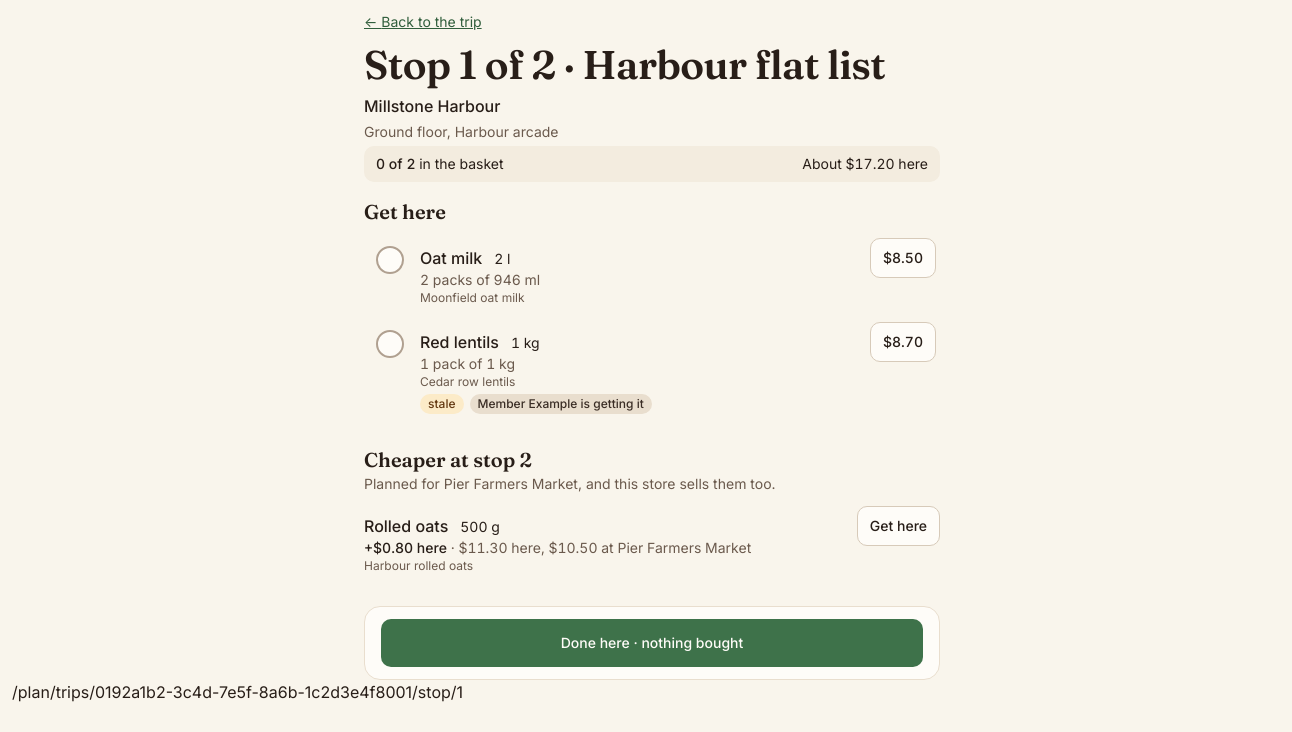
Test case: the stop screen (UI-4.8, UI-8.17) › ticks an item into the basket, moves it to the foot, and back again
What coordinates should you click on to do the following:
click the checkbox named "Check Oat milk"
I would click on:
 (390, 260)
Its box is [368,238,412,282].
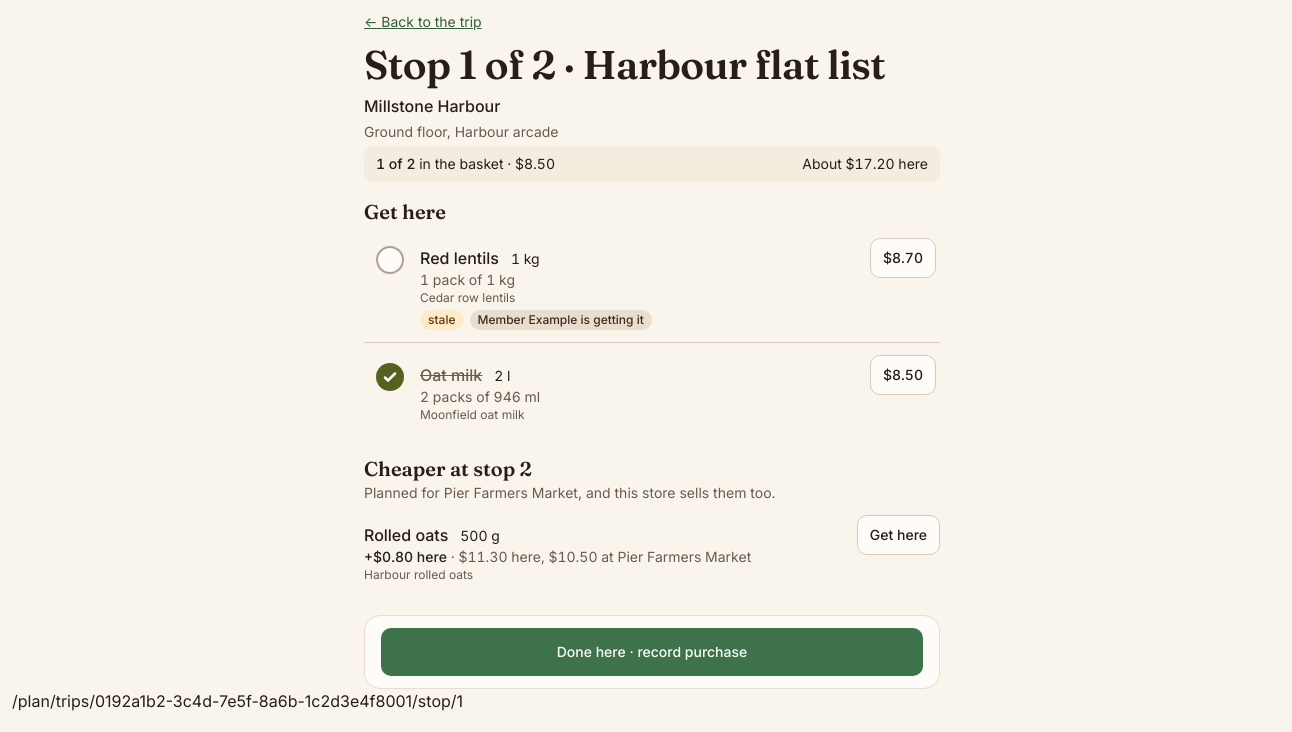
Expected: the text "Oat milk" is shown, [420,363,482,387]
Result: the element with test id "stop-progress" shows "1 of 2 in the basket · $8.50" at [364,146,940,182]
Result: the button "Done here · record purchase" is shown at [381,628,923,676]
What coordinates should you click on to do the following:
click the checkbox named "Uncheck Oat milk"
I would click on:
 (390, 377)
Its box is [368,355,412,399].
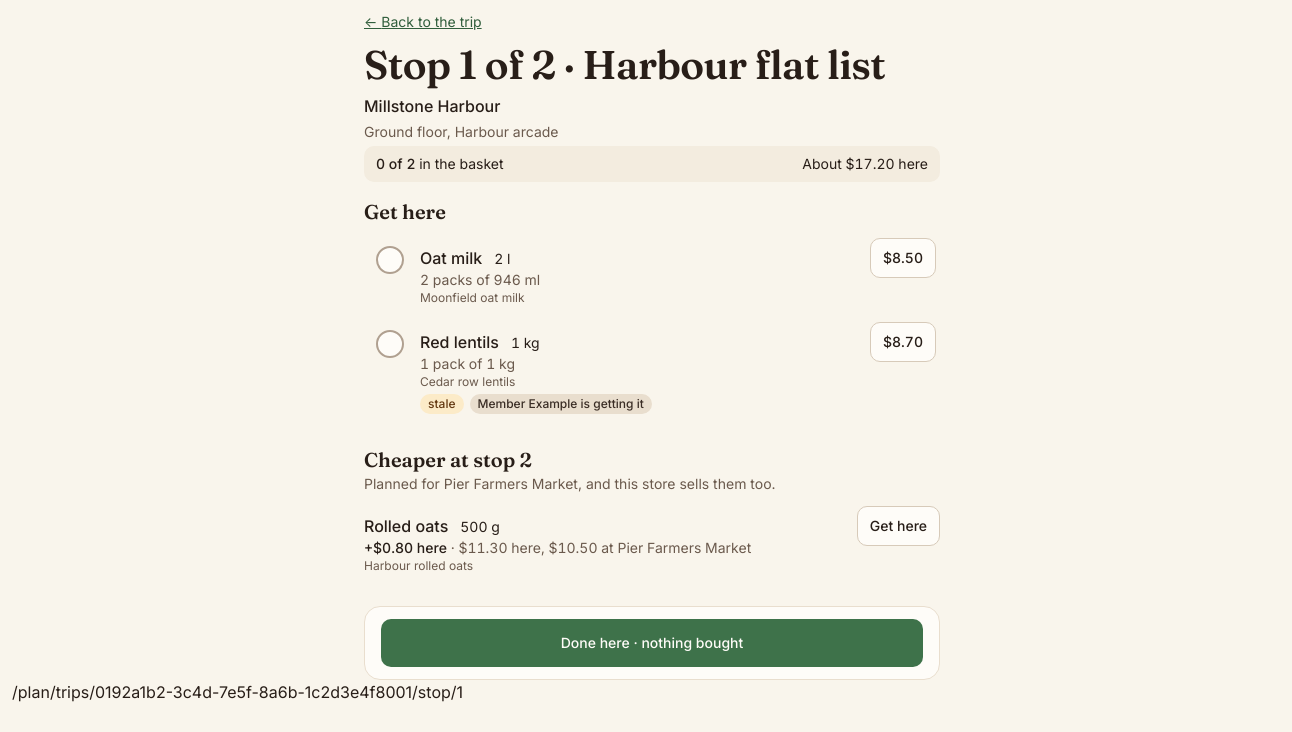
Result: the element with test id "stop-progress" shows "0 of 2 in the basket" at [364,146,940,182]
